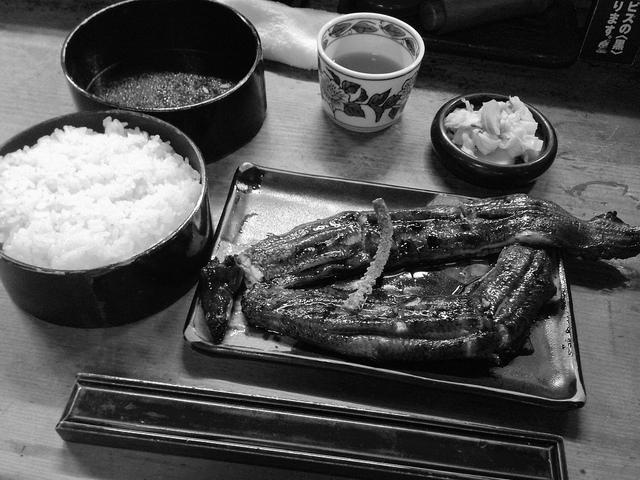glass: (318, 13, 424, 132)
